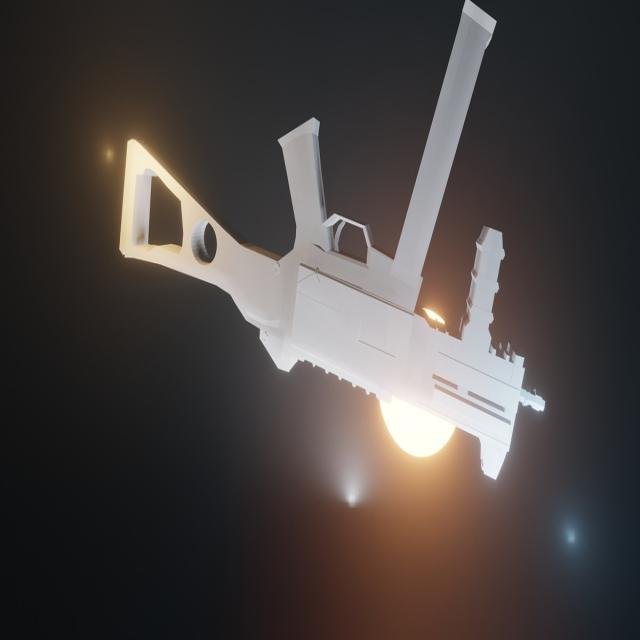Gun: (111, 2, 540, 484)
